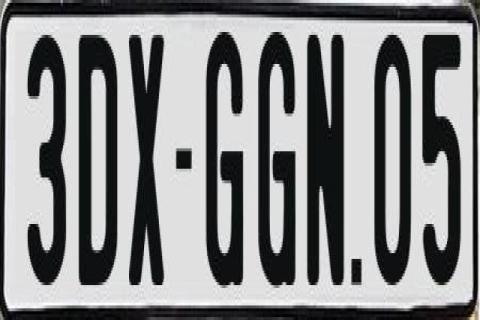0: (28, 32, 71, 294), (419, 26, 463, 282), (374, 35, 412, 285)
D: (79, 32, 121, 291)
G: (258, 26, 299, 282), (205, 29, 245, 288)
N: (305, 26, 345, 282)
X: (126, 32, 165, 296)
